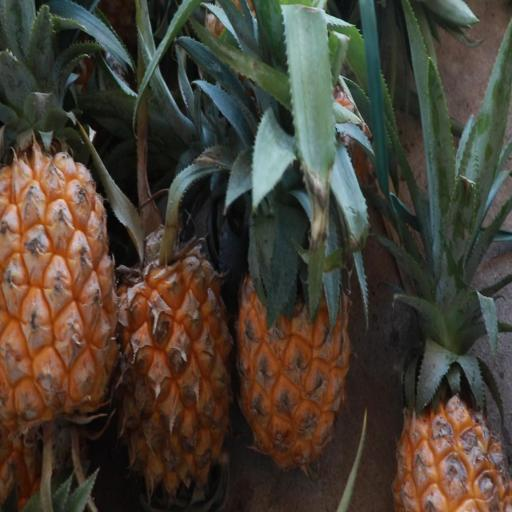Pineapple - v8 v1: (232, 153, 354, 477), (111, 200, 240, 500), (0, 130, 120, 450), (388, 291, 511, 512)
